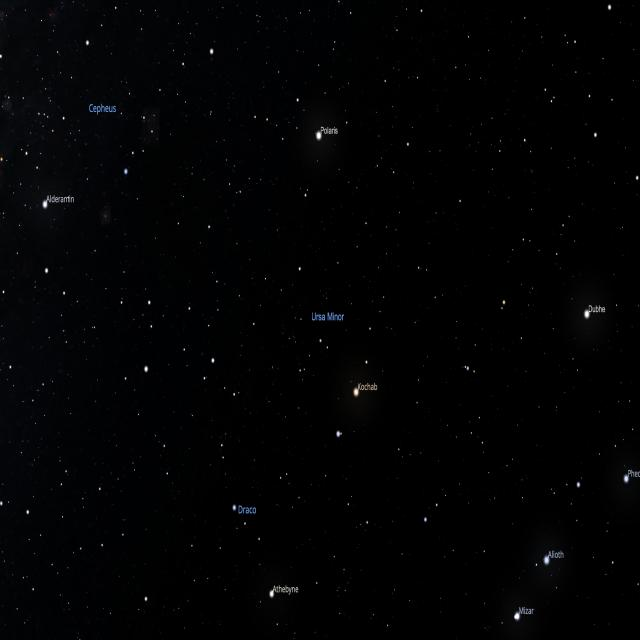Ursa Minor: (292, 124, 360, 442)
